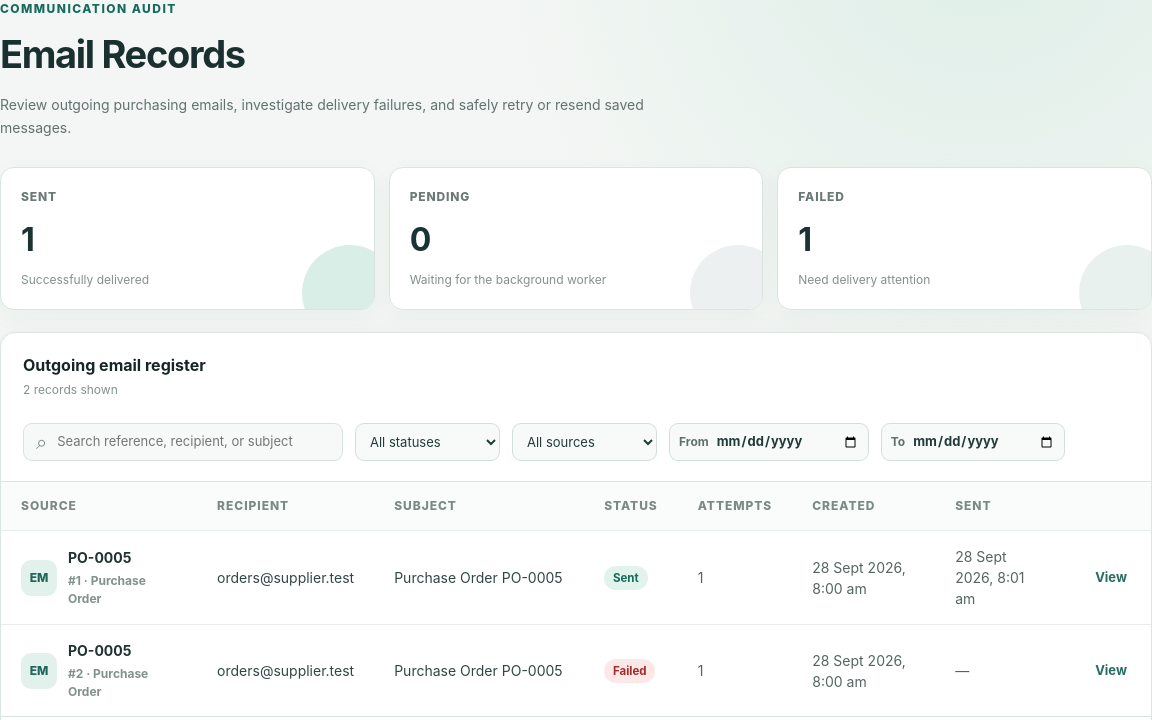
Test: EmailRecordListView › shows the saved PDF attachment in email details
Click the button "View" in the row of "#1 · Purchase Order": (1111, 578) [1091,564,1131,591]
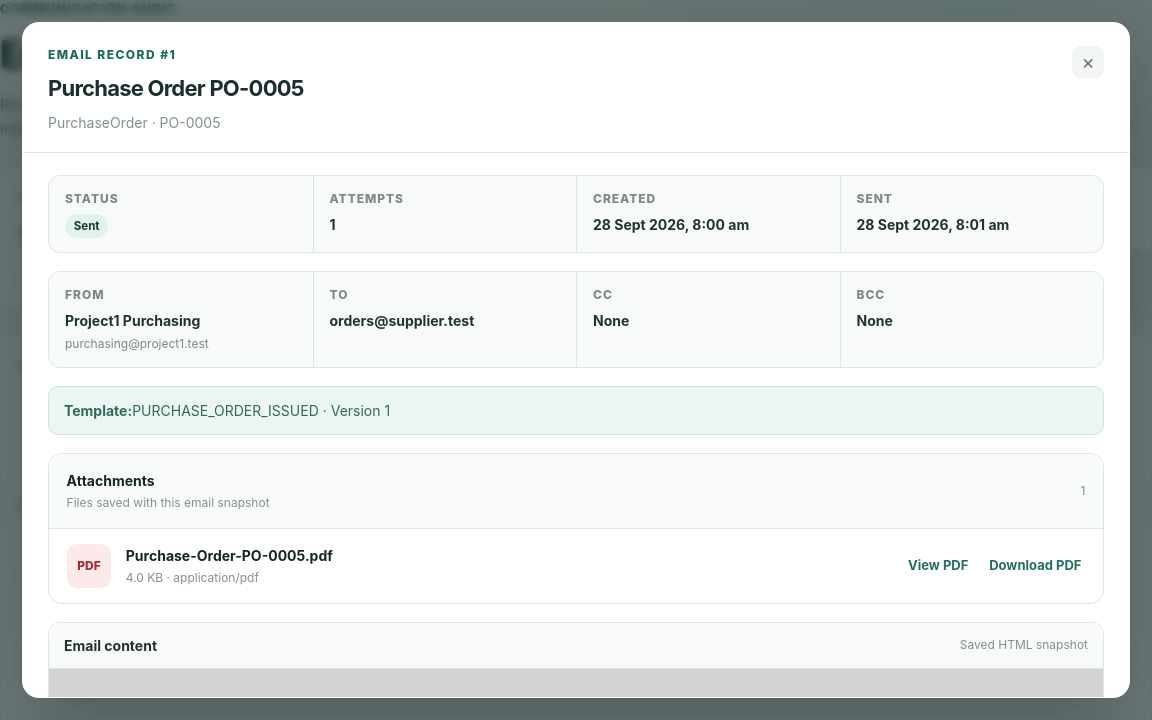
Expected: the element with class "email-record-attachments" shows "Purchase-Order-PO-0005.pdf", [126,547,333,564]
Expected: the element with class "email-record-attachments" shows "4.0 KB", [126,570,259,585]
Expected: the element with class "email-record-attachments" shows "View PDF", [904,552,972,580]
